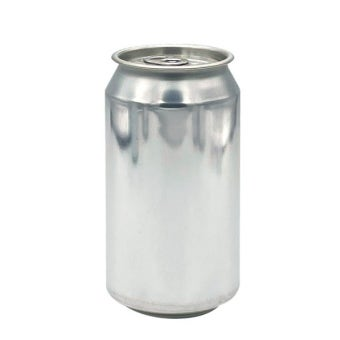paper: (101, 47, 242, 321)
